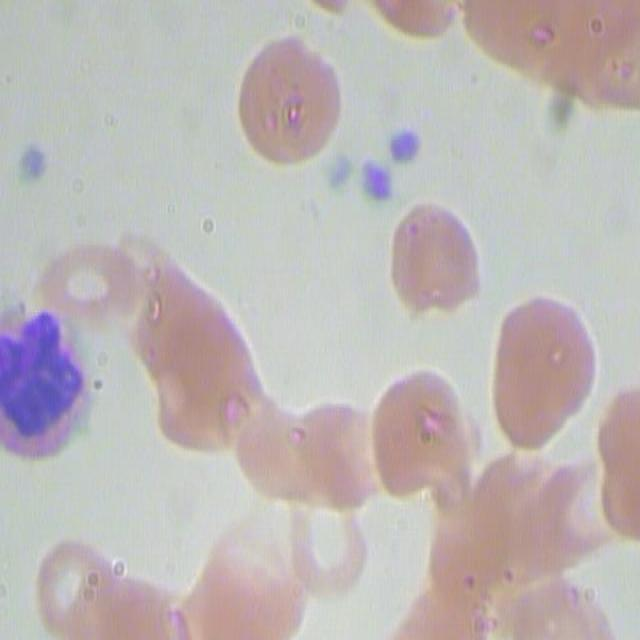RBC: (142, 246, 246, 439), (474, 5, 640, 96), (384, 356, 468, 509), (213, 532, 326, 640), (486, 452, 600, 557), (521, 305, 590, 471), (254, 50, 340, 164), (490, 567, 616, 640), (251, 368, 320, 500), (124, 564, 230, 640), (397, 214, 476, 315), (328, 383, 382, 528), (54, 250, 146, 333), (44, 536, 112, 640), (600, 380, 640, 545), (427, 519, 487, 626), (298, 506, 367, 594), (357, 3, 480, 46)
WBC: (0, 304, 78, 461)
platelets: (24, 143, 56, 195), (399, 126, 426, 172), (363, 163, 388, 207)
